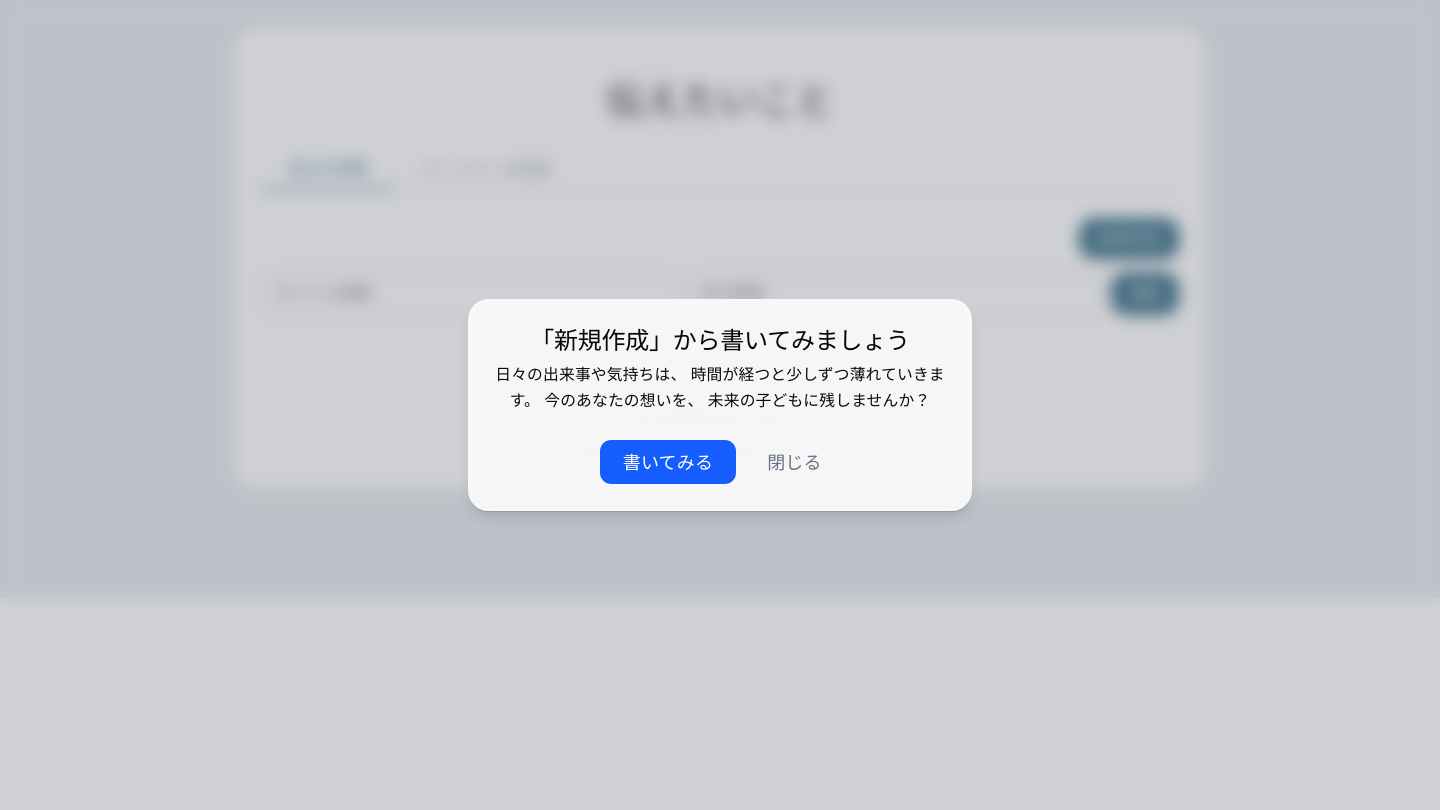
Test: PostList › Guide,Info,Toast › SimpleInfoModalの閉じるでModalが消える
The width and height of the screenshot is (1440, 810).
Click the button "閉じる". click: click(794, 462)
box: [749,440,840,484]
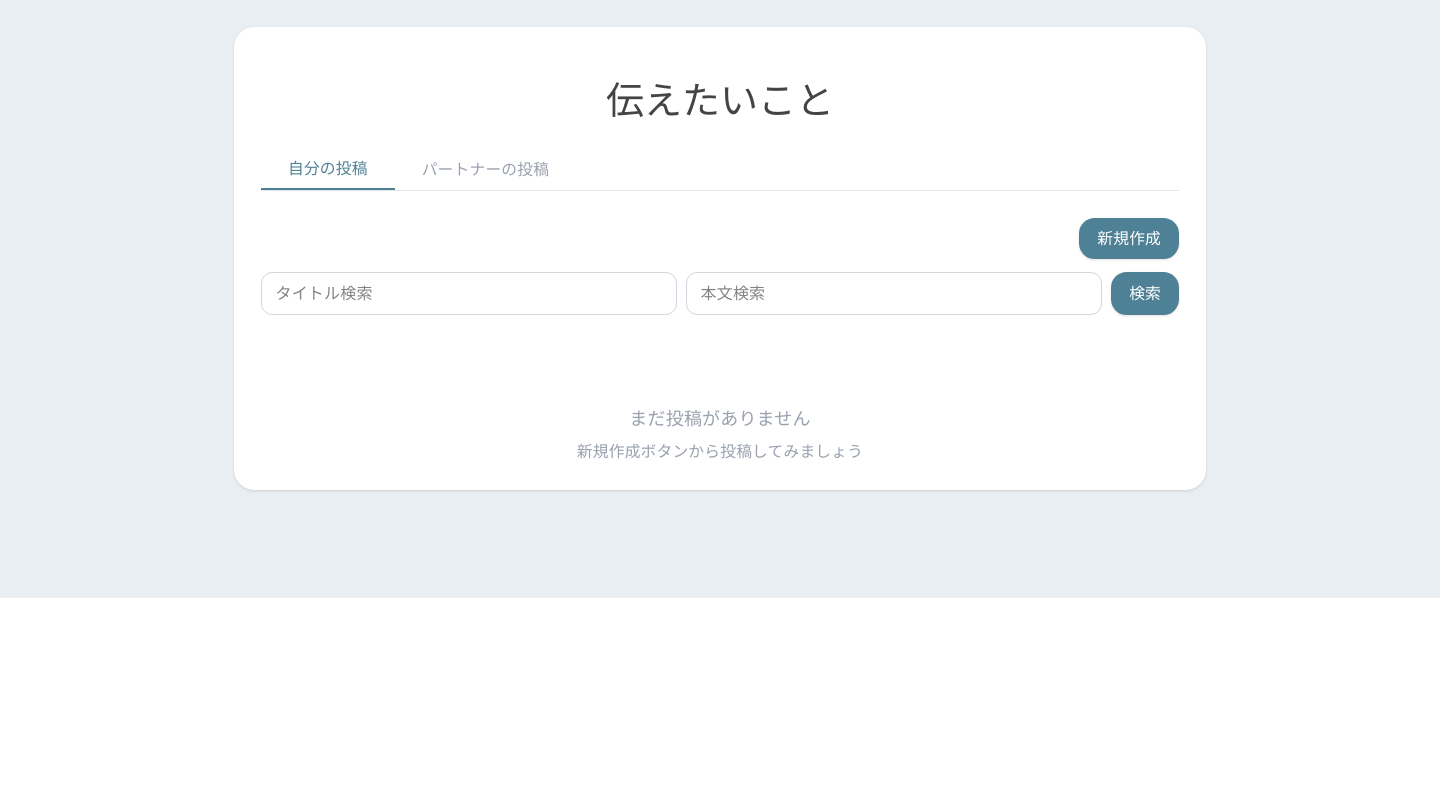
expect the heading "「新規作成」から書いてみましょう" is gone: met
